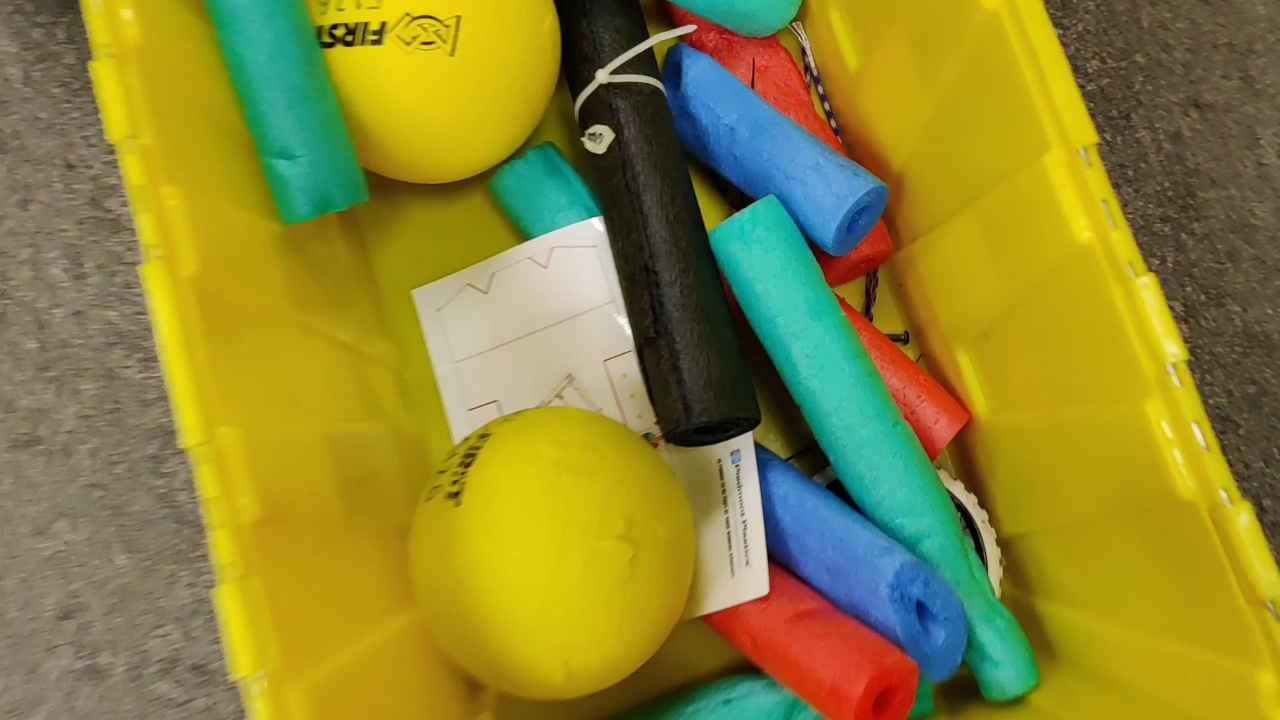Ball: (407, 409, 697, 701), (303, 1, 566, 183)
